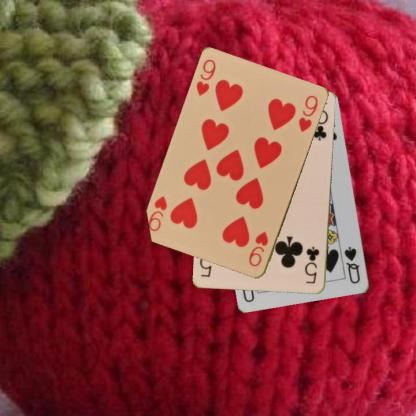5c: (302, 244, 321, 285)
9h: (246, 229, 270, 269), (194, 57, 217, 98)
Qs: (342, 244, 362, 286)
